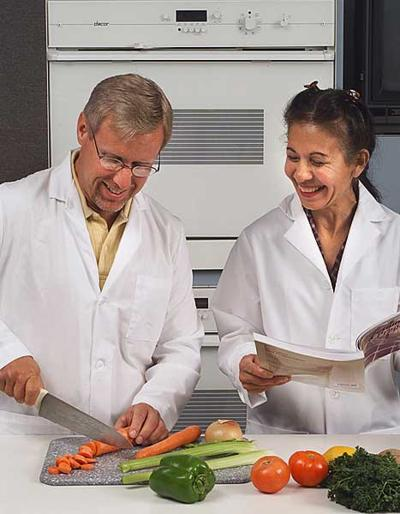person: (1, 70, 206, 446)
